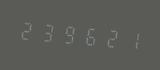nine: (58, 18, 77, 49)
one: (118, 23, 137, 54)
six: (78, 19, 97, 51)
three: (37, 16, 56, 47)
two: (17, 14, 36, 46), (98, 21, 117, 53)
